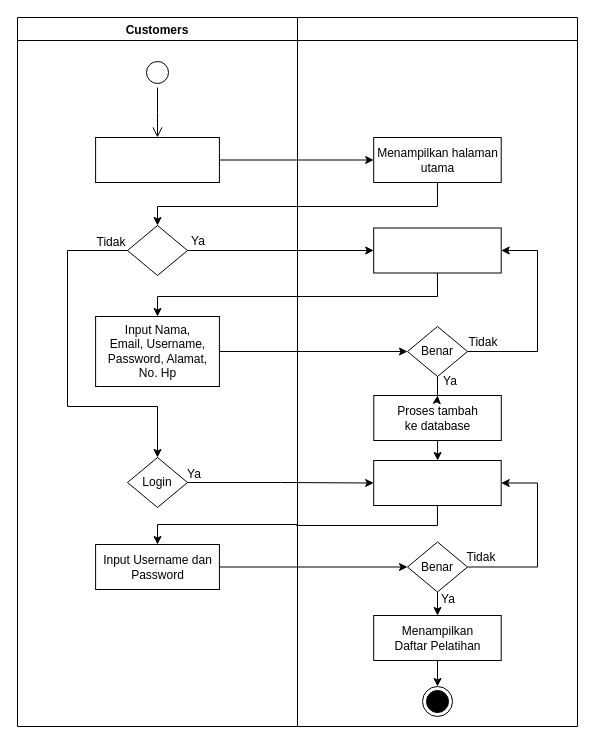
This 595x744 diagram has some shape labels left out. Each missing label, with the box of its shape:
Akses halaman utama: (95, 136, 219, 182)
Android: (296, 16, 578, 726)
Menampilkan halaman login: (373, 460, 501, 506)
Menampilkan halaman register: (373, 227, 501, 273)
Register: (126, 224, 188, 276)
